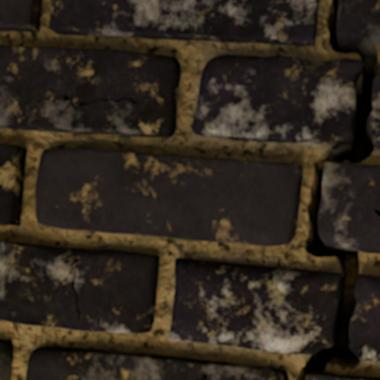brick: (36, 149, 301, 245), (0, 45, 179, 136), (0, 241, 158, 331), (50, 0, 317, 45), (26, 347, 287, 379), (319, 164, 379, 252), (0, 144, 25, 224), (337, 0, 379, 43), (0, 0, 41, 30), (307, 372, 379, 379), (0, 339, 12, 379)
broken_brick: (168, 257, 339, 354), (191, 54, 360, 146), (350, 274, 379, 362), (369, 73, 379, 149)
crack: (296, 0, 379, 379), (308, 0, 317, 3)
